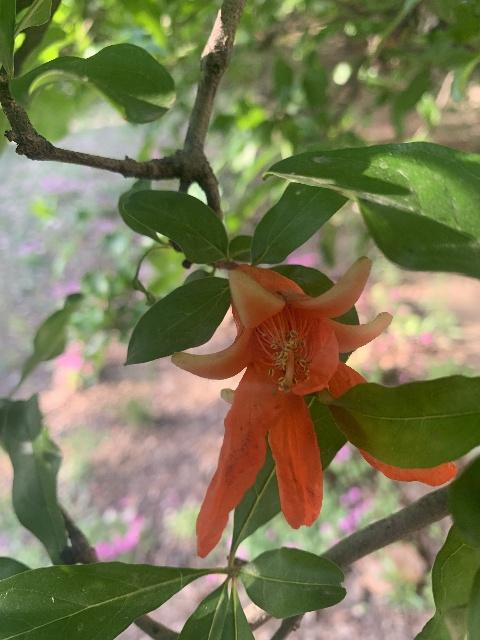flower: (167, 258, 454, 549)
